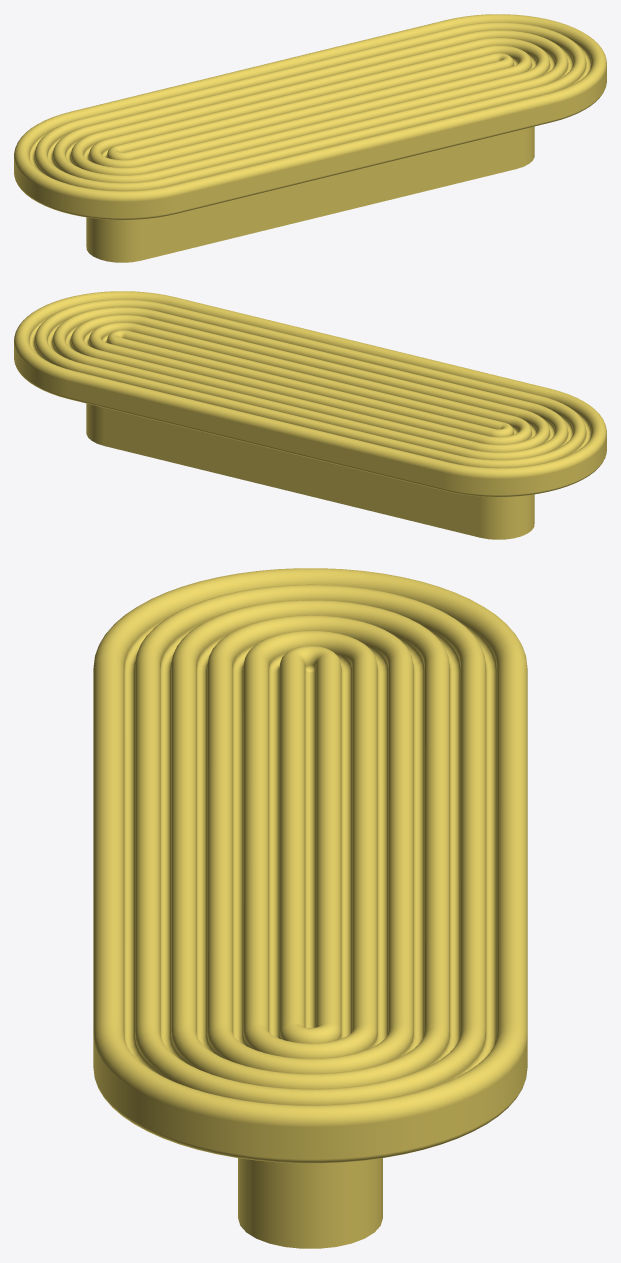
Rendered from roman-circus.glb.
The picture shows the model from 3 angles, top to bottom: view 1: azimuth 30°, elevation 25°; view 2: azimuth 150°, elevation 25°; view 3: azimuth 270°, elevation 25°; orthographic projection. The views are drawn at different scales.
Parts seen in each view (by area): view 1: TMARA-P-01-006-R00 - ROMAN CIRCUS; view 2: TMARA-P-01-006-R00 - ROMAN CIRCUS; view 3: TMARA-P-01-006-R00 - ROMAN CIRCUS.
Boxes of the visible parts, x1=… form: TMARA-P-01-006-R00 - ROMAN CIRCUS: x1=14, y1=14, x2=606, y2=262; TMARA-P-01-006-R00 - ROMAN CIRCUS: x1=14, y1=291, x2=606, y2=539; TMARA-P-01-006-R00 - ROMAN CIRCUS: x1=93, y1=568, x2=527, y2=1248.
Size of the model in its own units: 0.18 by 0.03 by 0.06.
